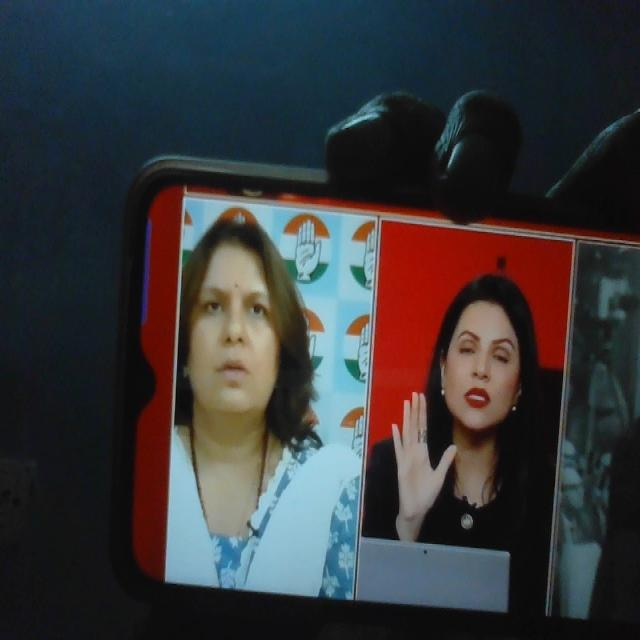fake: (179, 207, 294, 424), (436, 247, 539, 441)
